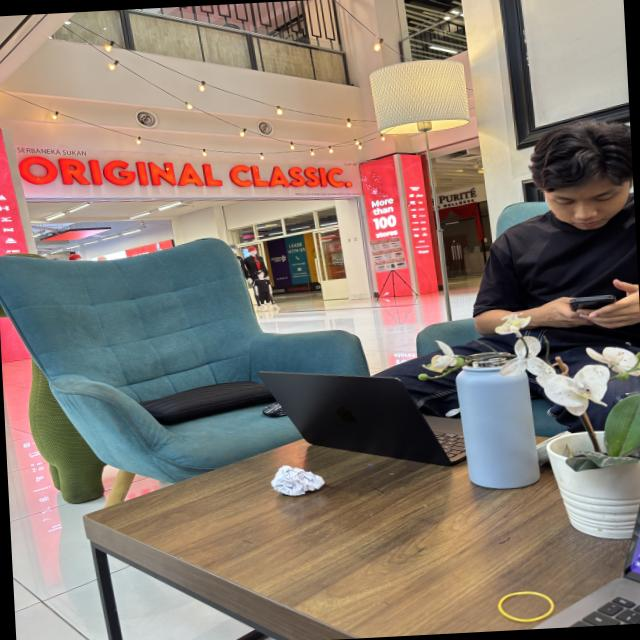crumpled_paper: (270, 462, 326, 499)
